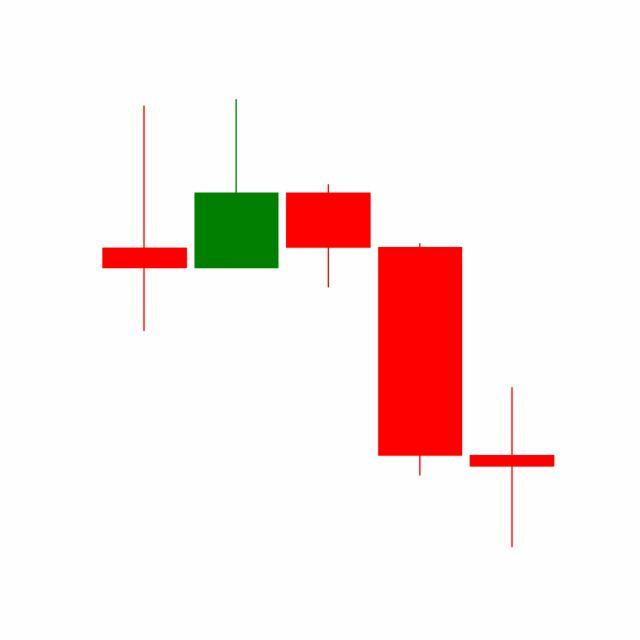Spinning Top: (466, 386, 559, 551)
